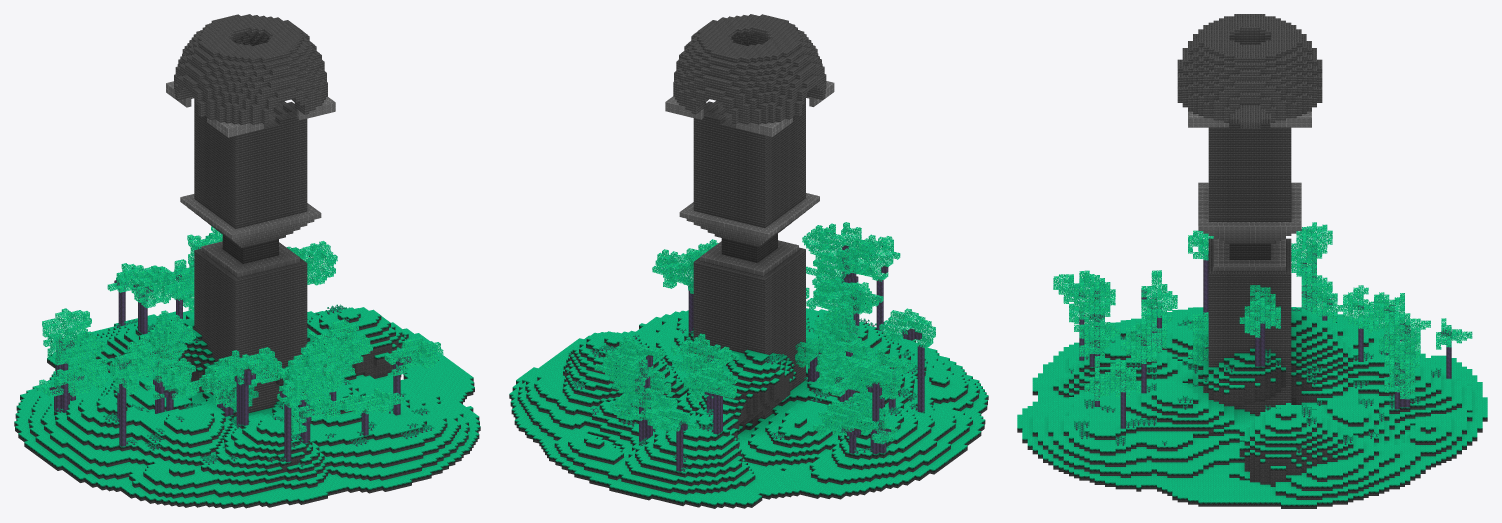
Rendered from tower.glb.
The picture shows the model from 3 angles, left to right: view 1: azimuth 30°, elevation 25°; view 2: azimuth 150°, elevation 25°; view 3: azimuth 270°, elevation 25°; orthographic projection.
Bounding box in the file's own units: 91 × 80 × 91.
2 materials, 2 textured.
